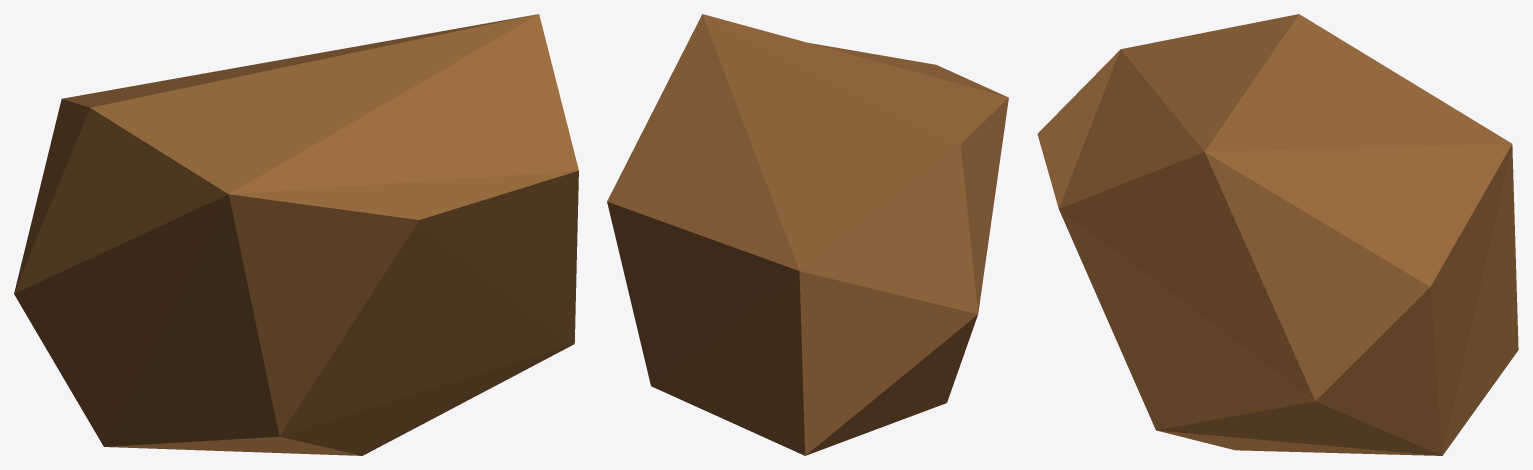
Rendered from CopperPieceSmall.fbx.
The picture shows the model from 3 angles, left to right: view 1: azimuth 30°, elevation 25°; view 2: azimuth 150°, elevation 25°; view 3: azimuth 270°, elevation 25°; orthographic projection. The views are drawn at different scales.
Parts seen in each view (by area): view 1: CopperPiece; view 2: CopperPiece; view 3: CopperPiece.
Part boxes in pixels (x1,y1,x2,y2): CopperPiece: (14, 14, 578, 455); CopperPiece: (607, 14, 1008, 455); CopperPiece: (1037, 14, 1518, 455).
Size of the model in its own units: 2.97 by 2.38 by 2.83.
